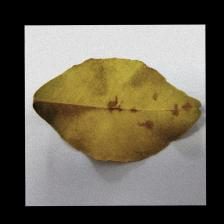black spot: (87, 76, 206, 138)
